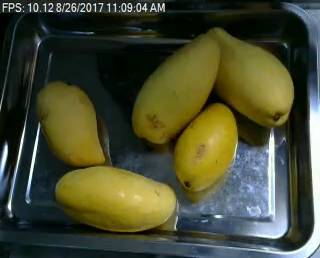Mango: (127, 29, 222, 141), (203, 26, 292, 127), (48, 163, 172, 231), (163, 101, 243, 191), (34, 79, 104, 164)
